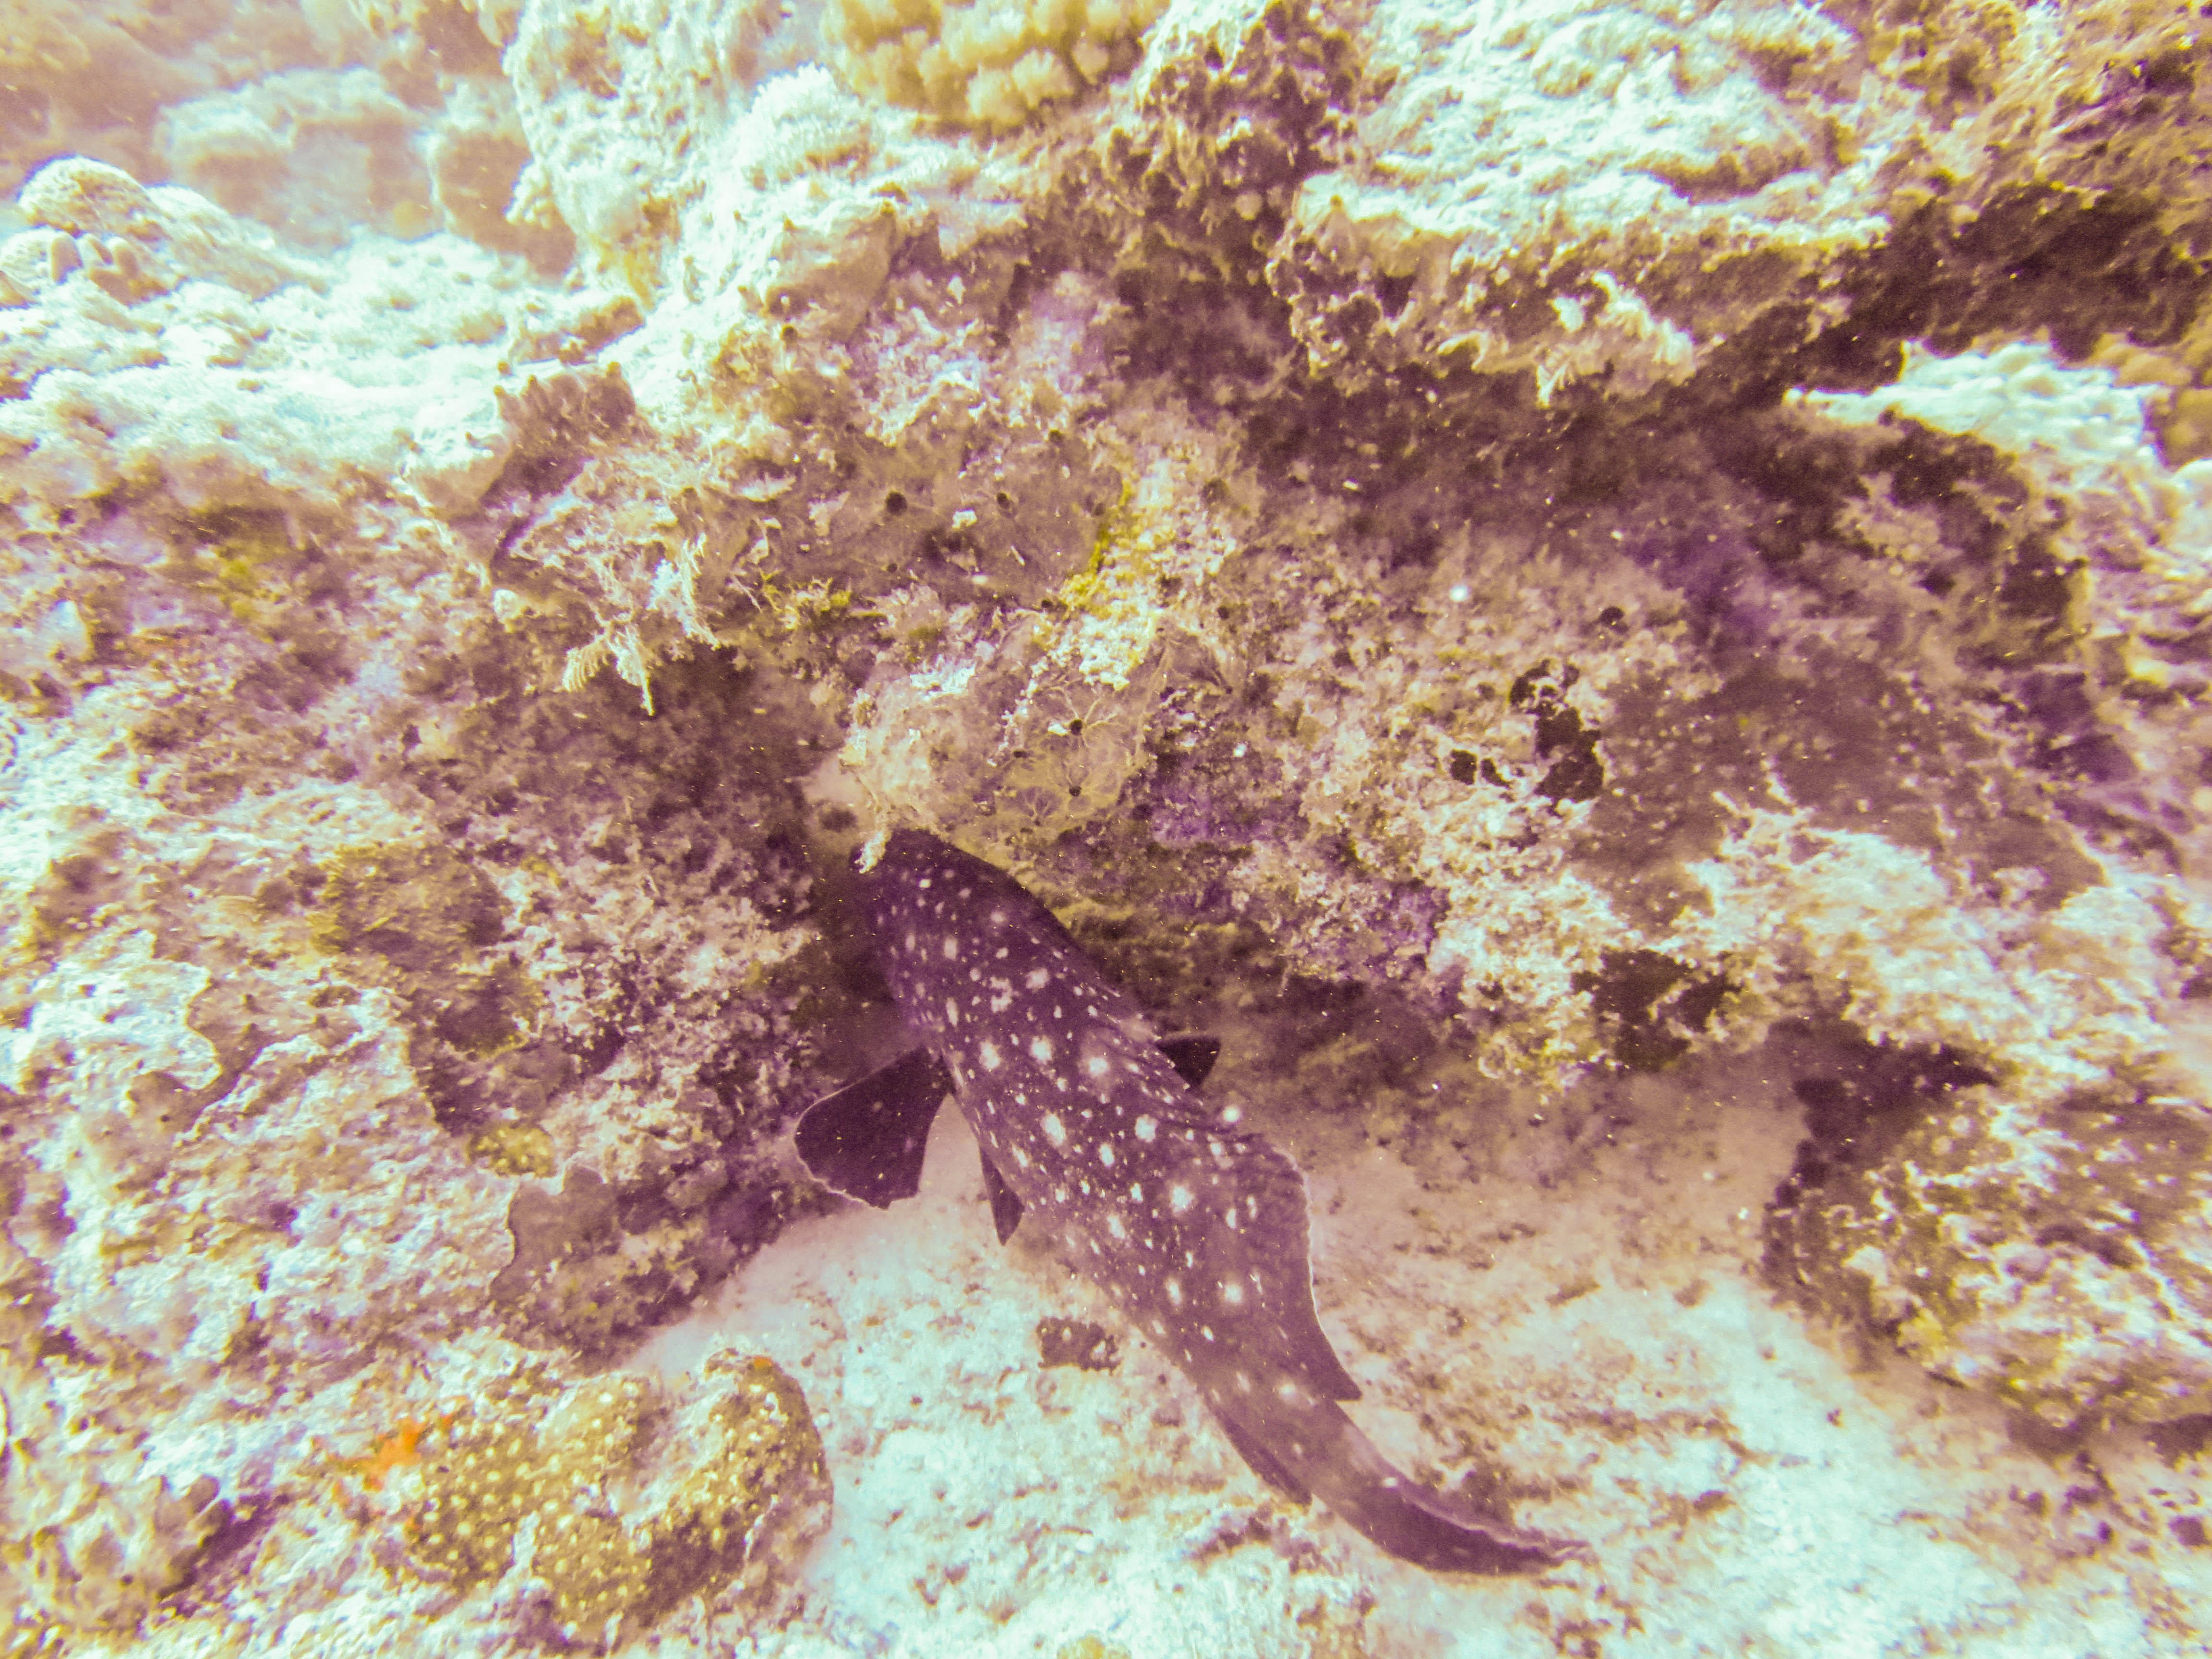Fish: (732, 746, 1662, 1656)
